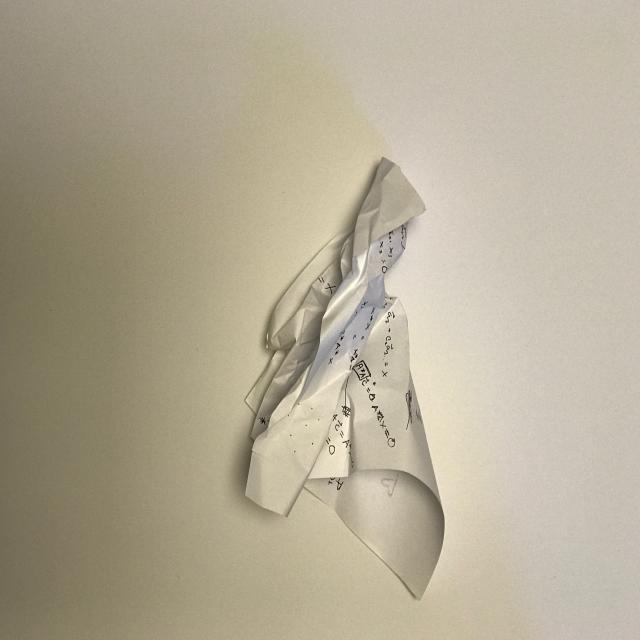Paper: (239, 156, 447, 600)
